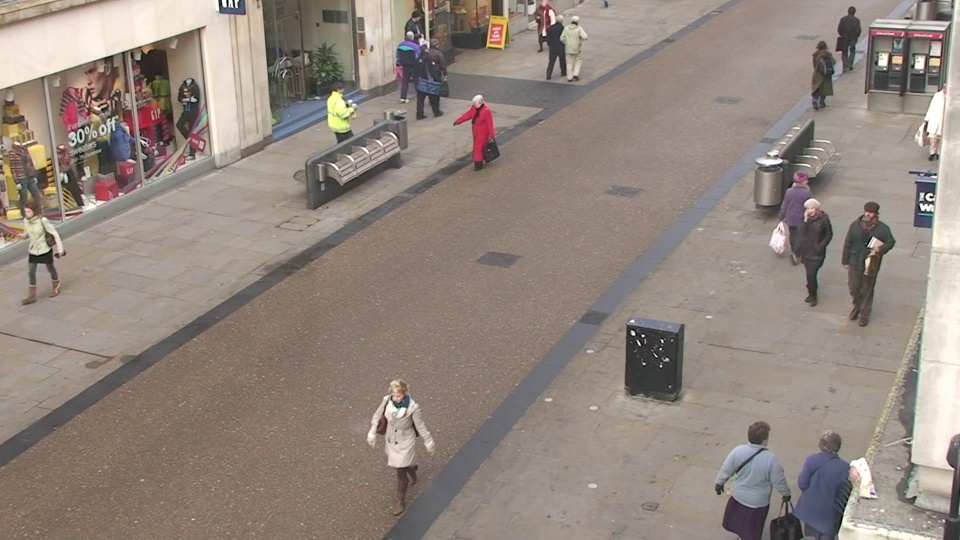pedestrian: (374, 372, 430, 532), (793, 417, 858, 540), (724, 410, 785, 540), (10, 196, 67, 311), (842, 198, 890, 317), (787, 194, 830, 311), (777, 165, 818, 274), (464, 92, 495, 181), (323, 76, 354, 160), (803, 38, 834, 115), (833, 4, 864, 74), (412, 41, 439, 115), (421, 35, 448, 108), (398, 28, 424, 99), (406, 9, 430, 74), (549, 10, 572, 77), (564, 12, 587, 79)
